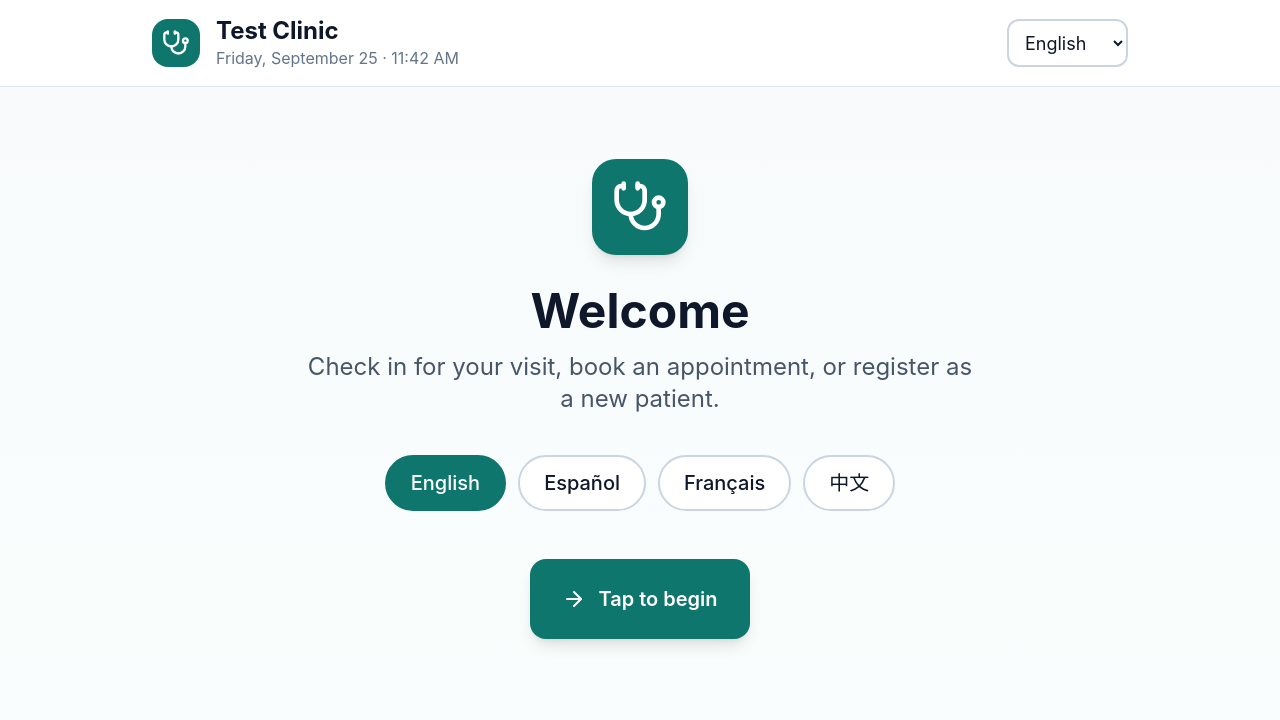
Test: language can be switched on the welcome screen
What coordinates should you click on to do the following:
click the button "Español"
I would click on:
 (582, 483)
Its box is [518,455,646,511].
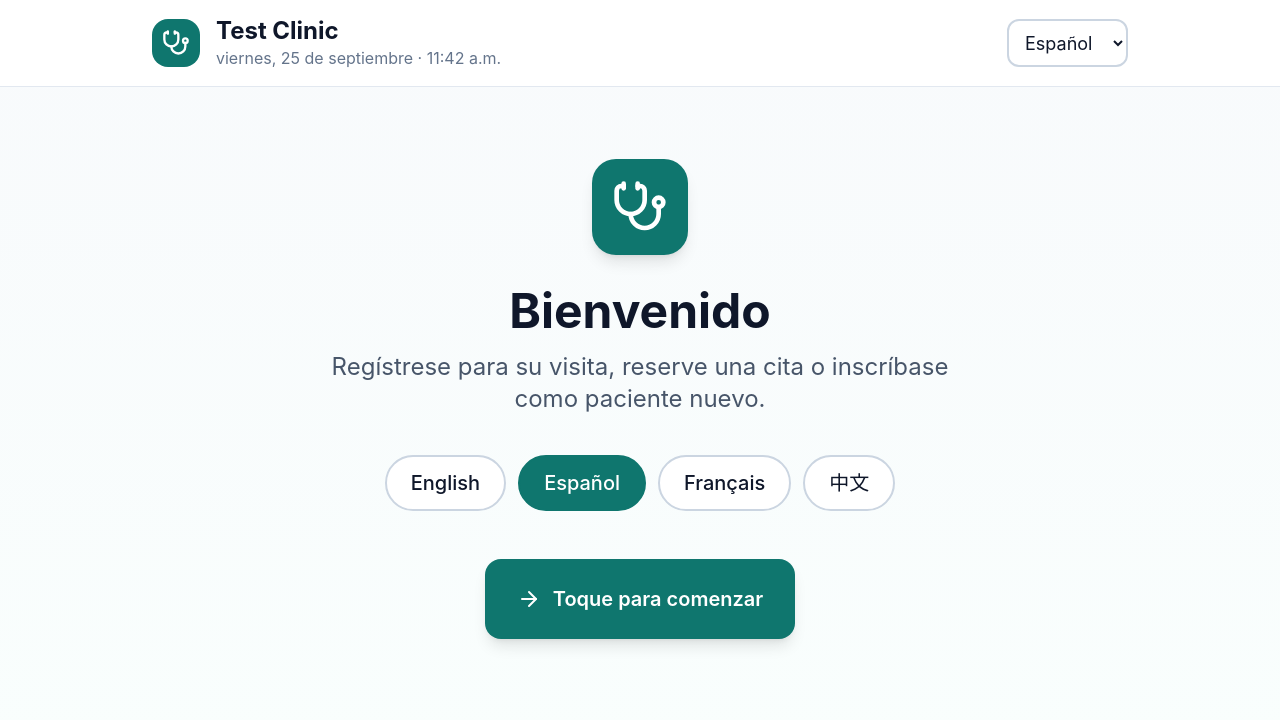
Now the heading "Bienvenido" is shown, box [509,281,771,340]
